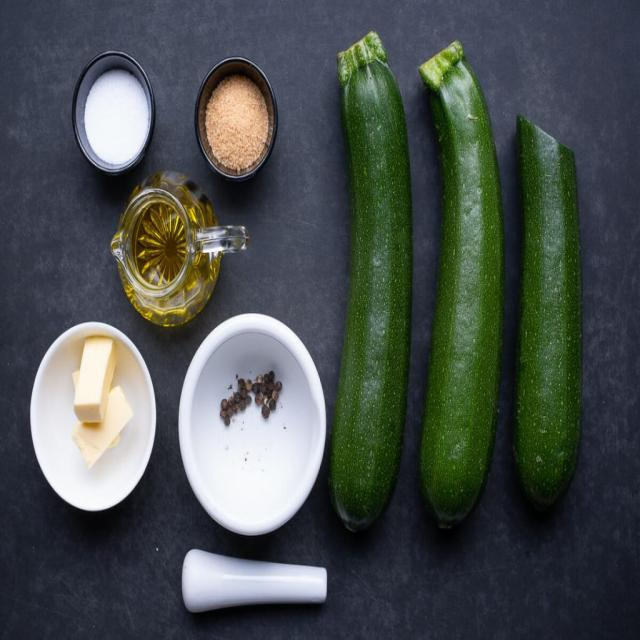Zucchini: (331, 30, 415, 538), (426, 46, 504, 527)
